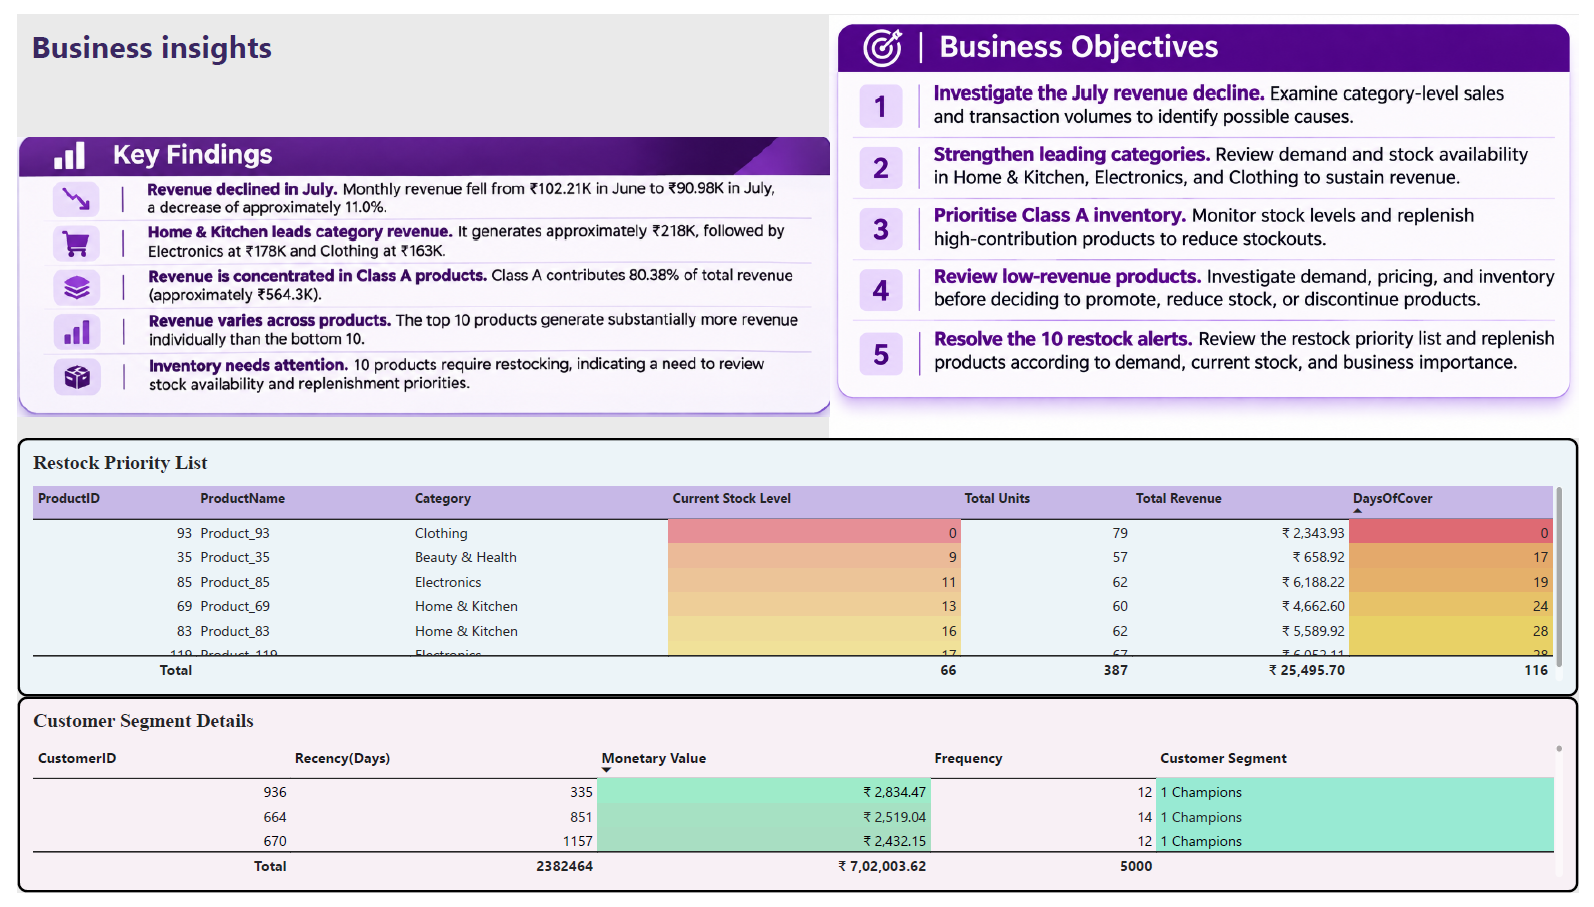

This screenshot's page, from the dashboard's own definition file:
{"tool":"powerbi","page":{"name":"More insights","canvas":[1920,1080],"ordinal":4},"visuals":[{"type":"tableEx","title":"Restock Priority List","fields":{"Values":["restock_priority_list.ProductID","restock_priority_list.ProductName","restock_priority_list.Category","Sum(restock_priority_list.StockLevel)","Sum(restock_priority_list.Units)","Sum(restock_priority_list.Revenue)","Sum(restock_priority_list.DaysOfCover)"]},"box":[0,520.9,1919.6,318.4],"z":1001},{"type":"tableEx","title":"Customer Segment Details","fields":{"Values":["rfm_customers.CustomerID","Sum(rfm_customers.Recency)","Sum(rfm_customers.Monetary)","Sum(rfm_customers.Frequency)","rfm_customers.Segment"]},"box":[0,839.3,1919.6,241.1],"z":1002},{"type":"textbox","box":[16.6,12.9,478.5,112.3],"z":1003},{"type":"image","box":[999.4,0,920.3,520.9],"z":1004},{"type":"image","box":[0,125.2,999.4,395.7],"z":1005}]}

Visuals, with their boxes in screenshot pixels (x1, y1, x2, y2), scaled from the page's 1920x1080 canvas onto the 1594x907 screenshot:
"Restock Priority List" tableEx: bbox=[0, 437, 1593, 705]
"Customer Segment Details" tableEx: bbox=[0, 705, 1593, 906]
textbox: bbox=[14, 11, 411, 105]
image: bbox=[830, 0, 1593, 437]
image: bbox=[0, 105, 830, 437]
